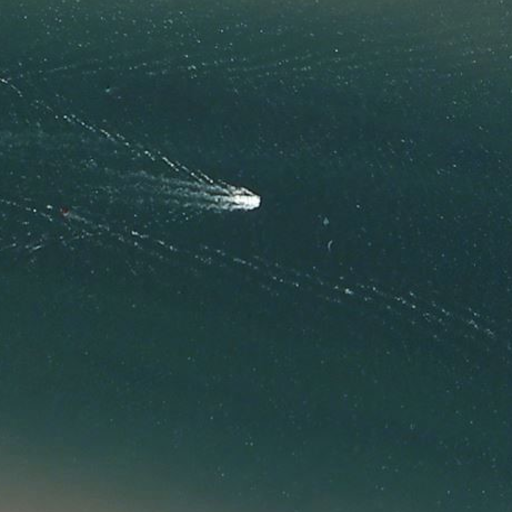ship: (228, 185, 262, 213)
